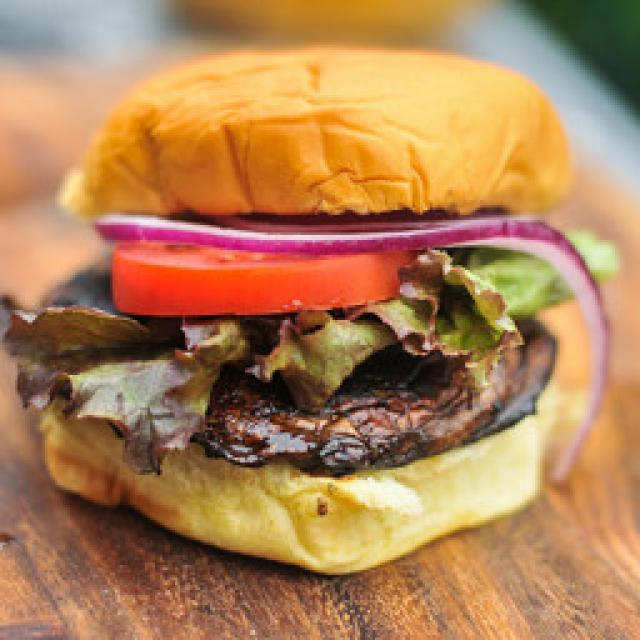Tomato: (110, 242, 412, 318)
burger: (0, 50, 618, 580)
